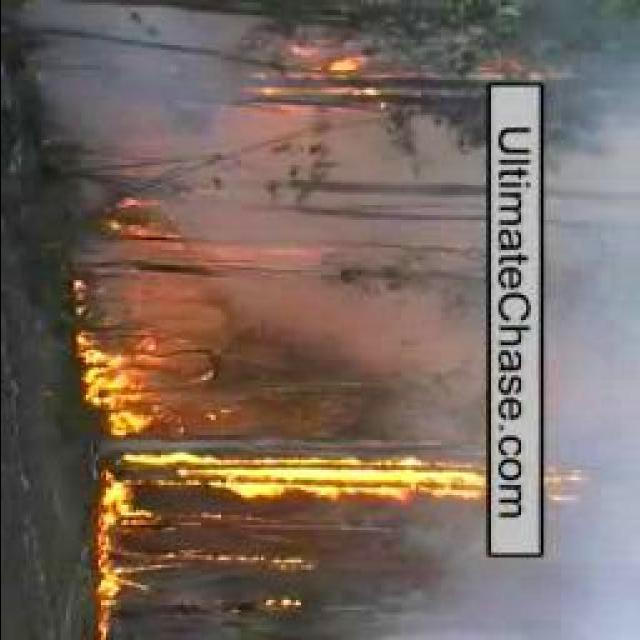Fire: (82, 456, 587, 514), (251, 40, 403, 109), (66, 324, 157, 432), (98, 190, 184, 238), (96, 540, 126, 629)
